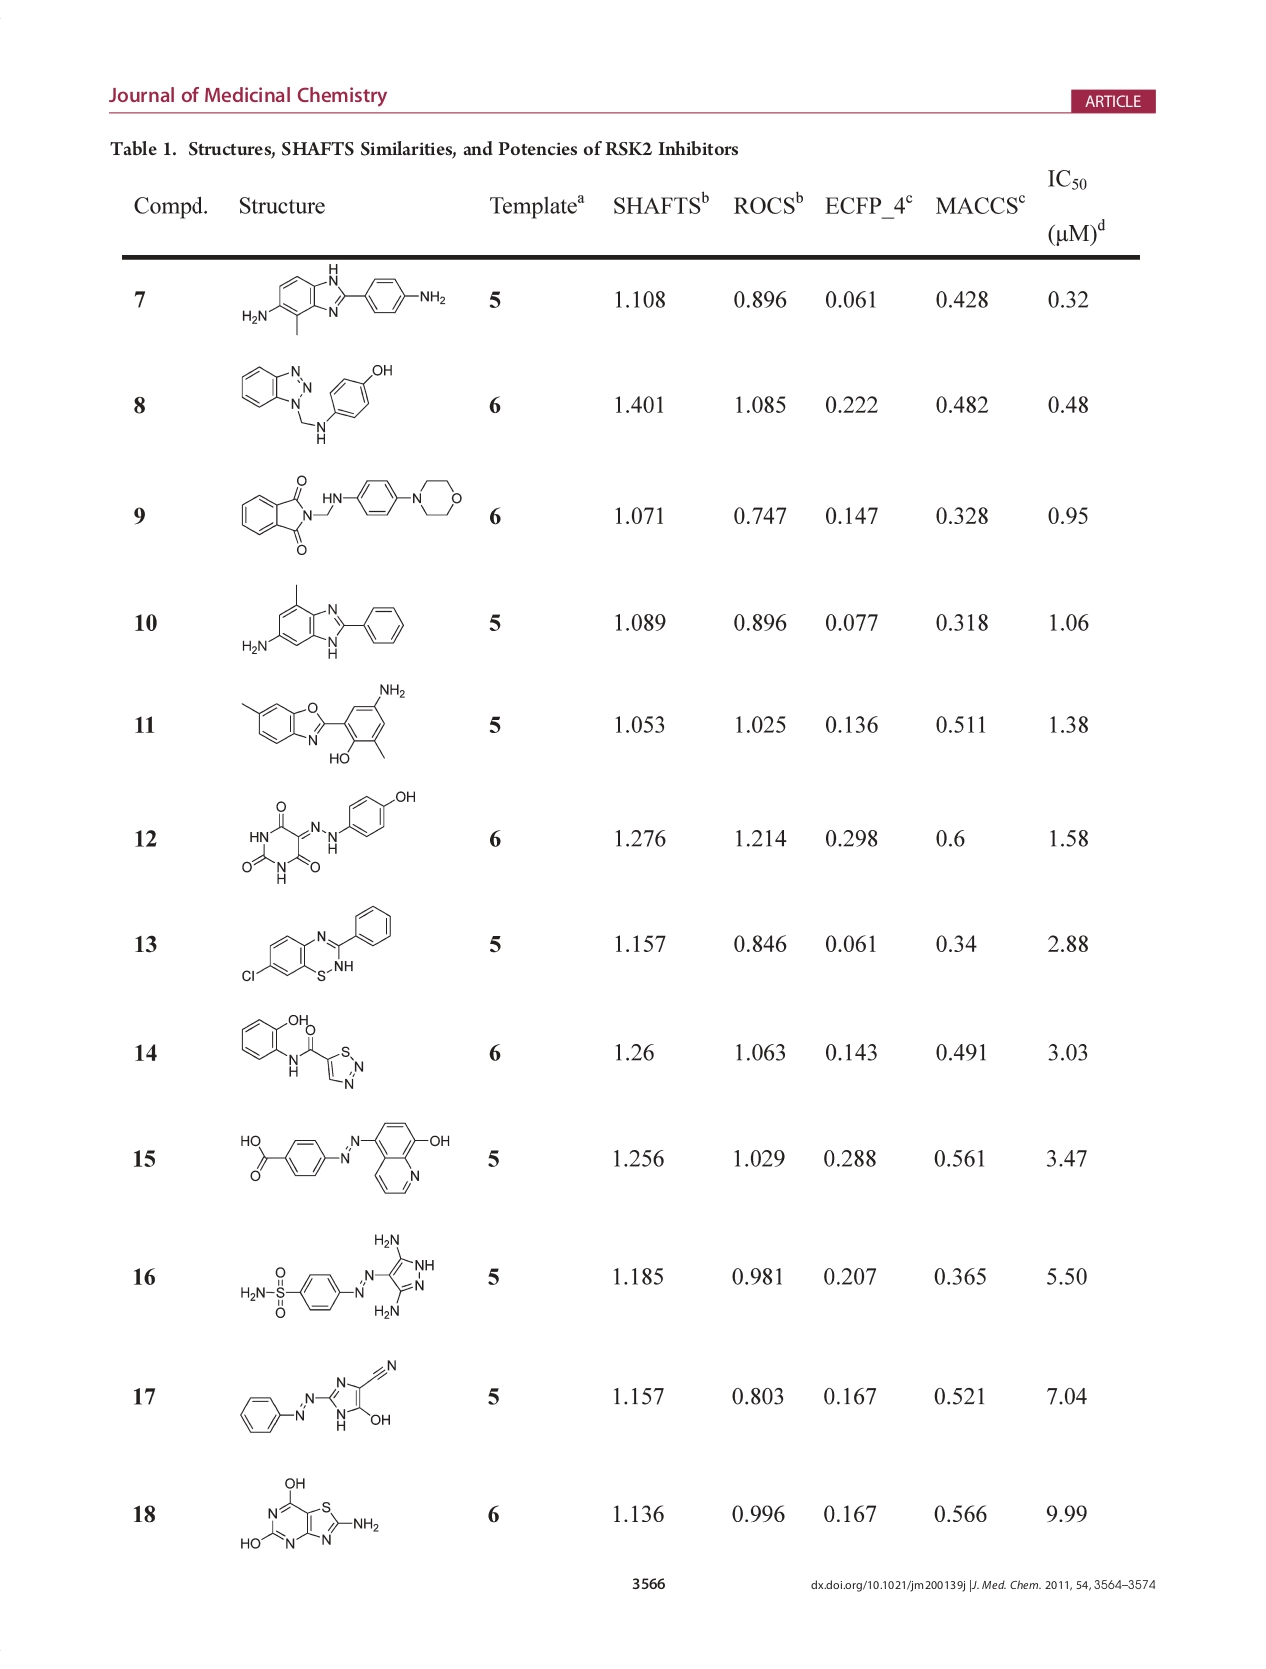exist_molecular: (234, 468, 465, 564), (235, 1114, 453, 1204), (235, 781, 419, 884), (237, 255, 449, 339), (239, 1230, 438, 1318), (235, 680, 410, 766), (238, 578, 411, 665), (235, 356, 396, 448), (237, 1352, 399, 1438), (233, 1468, 386, 1557), (238, 904, 394, 988), (235, 1005, 367, 1091)
